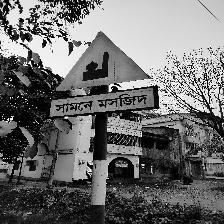Mosque in front: (52, 32, 157, 121)
